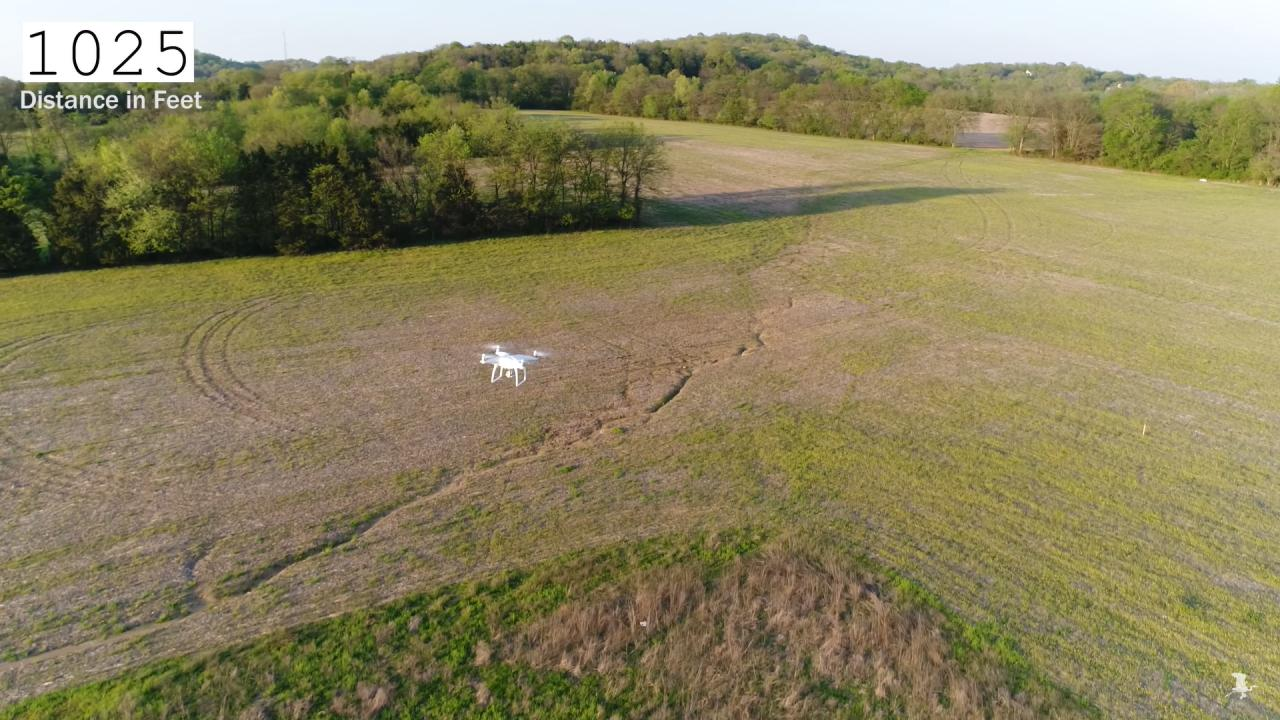Drone: (464, 334, 559, 392)
